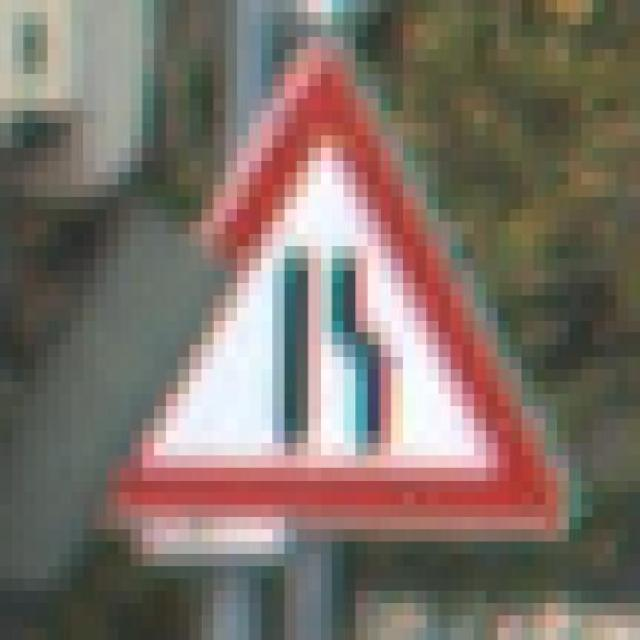-Road narrows on right: (53, 27, 564, 544)
